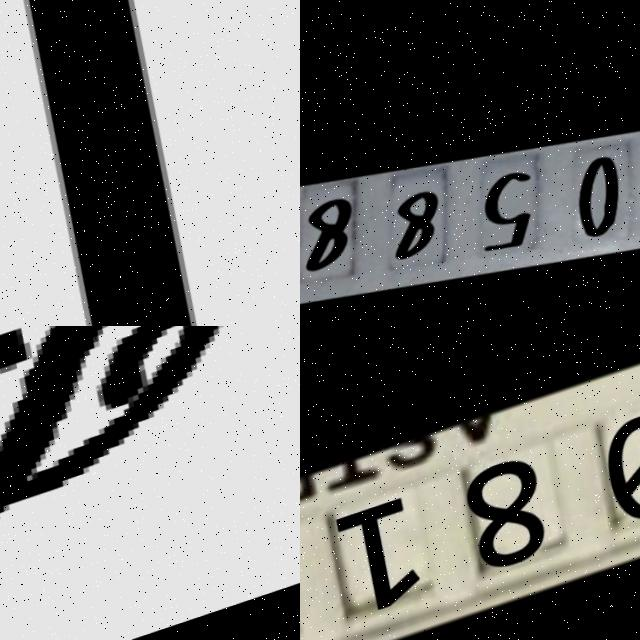0: (556, 144, 640, 261), (590, 402, 640, 544)
1: (328, 489, 457, 630)
5: (463, 155, 569, 276)
8: (453, 448, 581, 590), (378, 174, 473, 284), (300, 178, 387, 296)
I: (0, 0, 300, 326)
